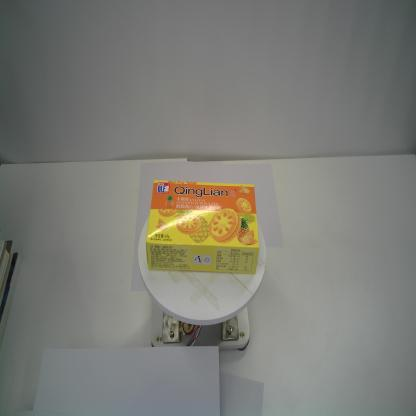Dessert: (145, 180, 259, 274)
